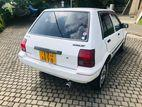car: (15, 4, 131, 99)
